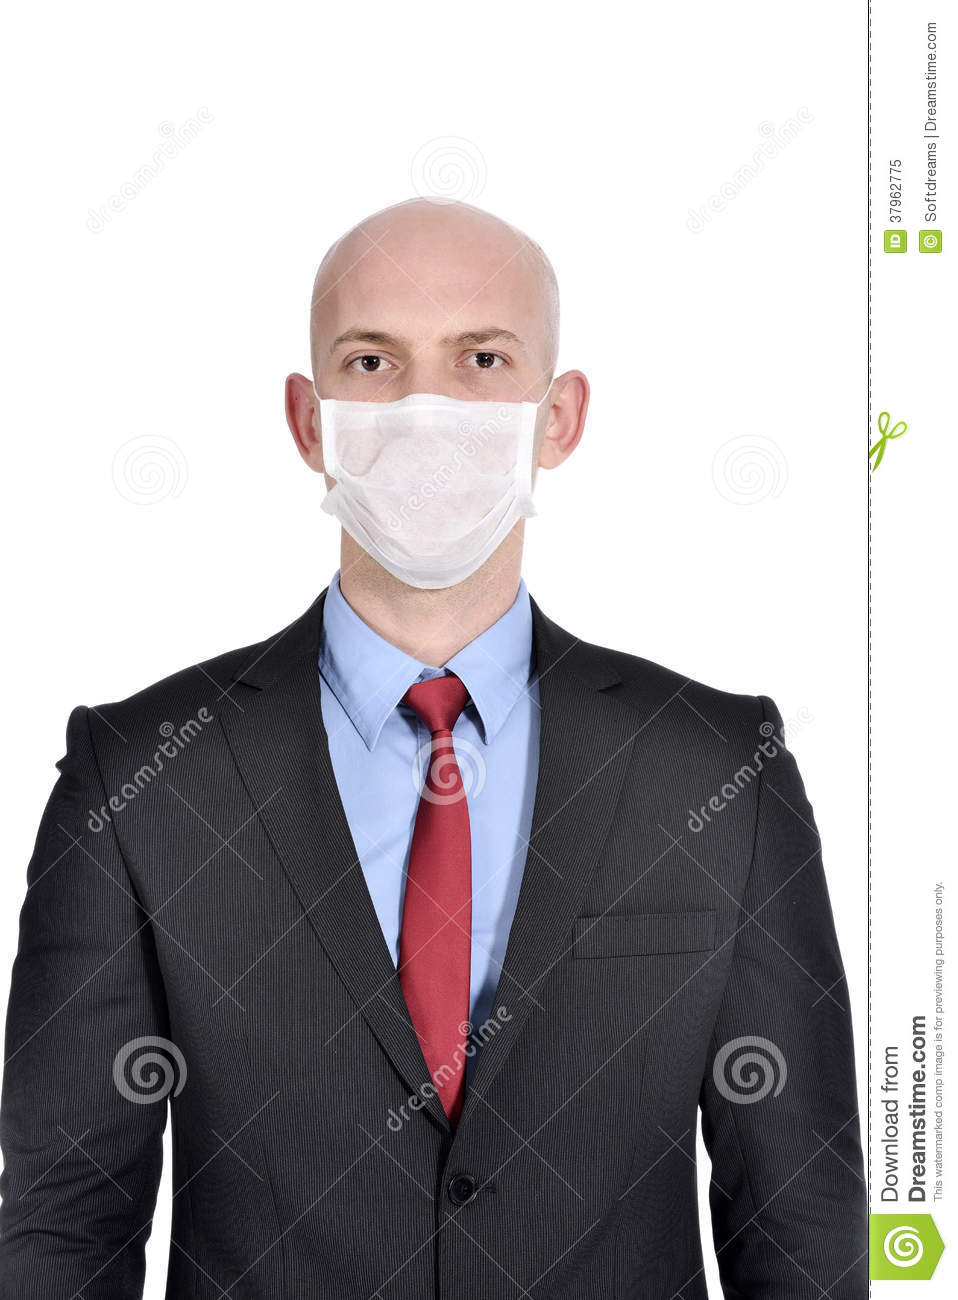mask: (317, 396, 546, 595)
